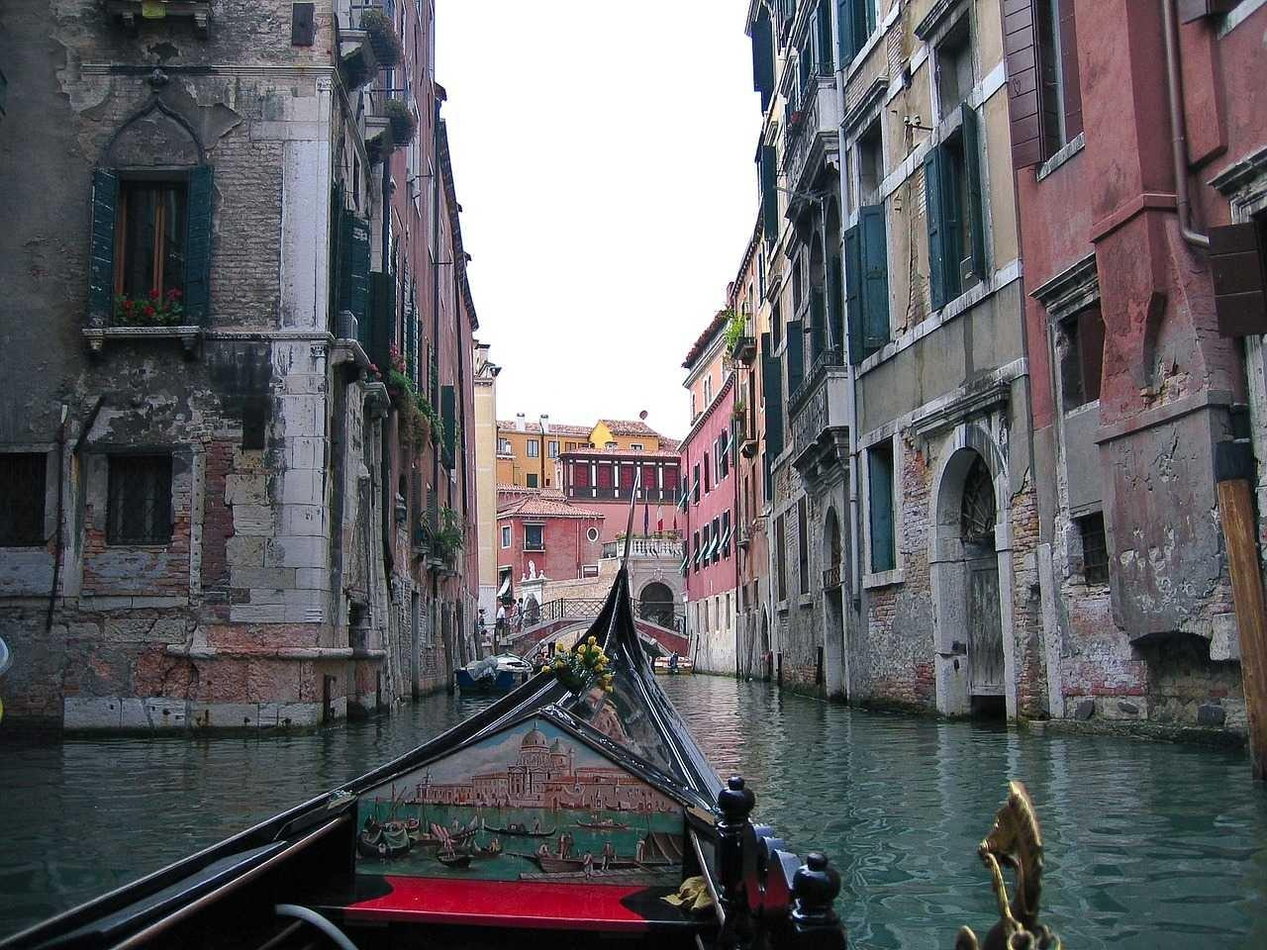kayak: (5, 570, 852, 947), (952, 779, 1063, 950), (455, 652, 534, 696)
